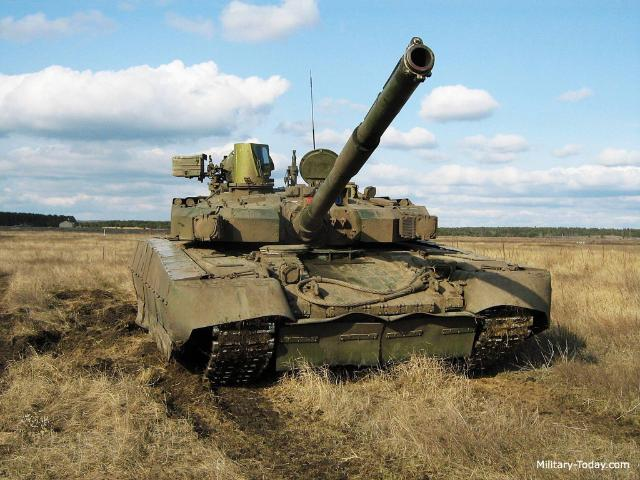tank: (140, 142, 538, 370)
